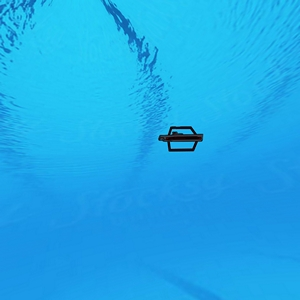submarine: (157, 123, 204, 155)
